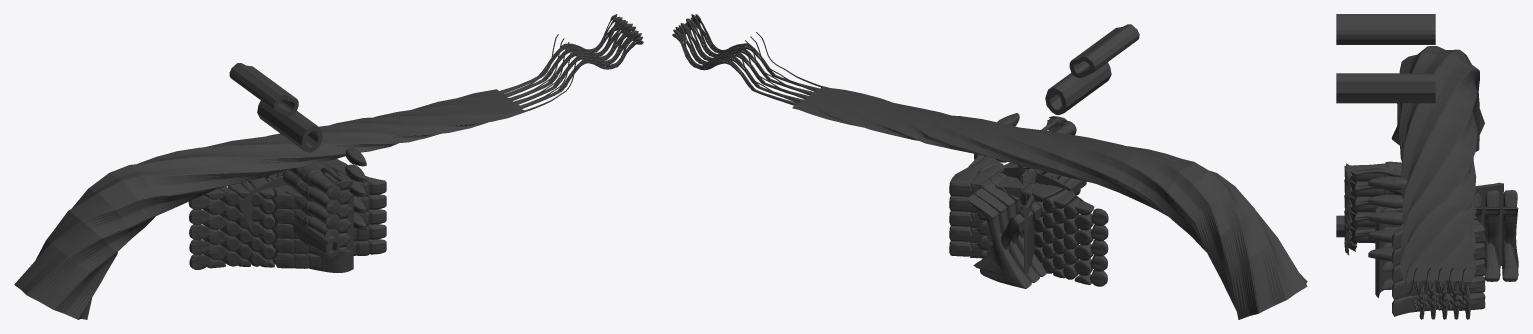
Rendered from sharedassets62.glb.
3 renders of one model, left to right at view 1: azimuth 30°, elevation 25°; view 2: azimuth 150°, elevation 25°; view 3: azimuth 270°, elevation 25°, orthographic. The views are drawn at different scales.
Visible parts, largest first — view 1: 0029_Cochlear nerve__300812, 0012_Border cells__300795, 0033_Blood vessels__300816, 0019_Hensen_s cells__300802, 0014_Outer phalangeal _Deiters__ cells _ row, 0004_Outer hair cells _row 1___300787, 0007_Inner hair cells__300790, 0011_Reticular membrane _lamina___300794, 0021_Nuel_s space__300804; view 2: 0029_Cochlear nerve__300812, 0012_Border cells__300795, 0033_Blood vessels__300816, 0013_Inner pillars _rods___300796, 0019_Hensen_s cells__300802, 0017_Outer pillars _rods___300800, 0023_Boettcher_s cells__300806, 0011_Reticular membrane _lamina___300794; view 3: 0029_Cochlear nerve__300812, 0033_Blood vessels__300816, 0019_Hensen_s cells__300802, 0007_Inner hair cells__300790, 0017_Outer pillars _rods___300800, 0013_Inner pillars _rods___300796, 0011_Reticular membrane _lamina___300794, 0014_Outer phalangeal _Deiters__ cells _ row, 0016_Outer phalangeal _Deiters__ cells _row 3, 0005_Outer hair cells _row 2___300788, 0015_Outer phalangeal _Deiters__ cells _row 2, 0020_Inner phalangeal cells__300803 (+2 smaller).
Boxes of the visible parts, x1=… form: 0029_Cochlear nerve__300812: x1=14, y1=14, x2=643, y2=319; 0012_Border cells__300795: x1=188, y1=177, x2=309, y2=269; 0033_Blood vessels__300816: x1=229, y1=63, x2=340, y2=256; 0019_Hensen_s cells__300802: x1=312, y1=159, x2=386, y2=255; 0014_Outer phalangeal _Deiters__ cells _ row: x1=283, y1=165, x2=353, y2=255; 0004_Outer hair cells _row 1___300787: x1=307, y1=172, x2=340, y2=248; 0007_Inner hair cells__300790: x1=345, y1=148, x2=366, y2=229; 0011_Reticular membrane _lamina___300794: x1=248, y1=181, x2=353, y2=272; 0021_Nuel_s space__300804: x1=238, y1=176, x2=287, y2=243; 0029_Cochlear nerve__300812: x1=672, y1=14, x2=1307, y2=319; 0012_Border cells__300795: x1=1021, y1=172, x2=1108, y2=286; 0033_Blood vessels__300816: x1=1045, y1=24, x2=1139, y2=193; 0013_Inner pillars _rods___300796: x1=967, y1=173, x2=1047, y2=288; 0019_Hensen_s cells__300802: x1=949, y1=154, x2=1004, y2=258; 0017_Outer pillars _rods___300800: x1=973, y1=201, x2=1041, y2=274; 0023_Boettcher_s cells__300806: x1=977, y1=179, x2=1043, y2=258; 0011_Reticular membrane _lamina___300794: x1=1023, y1=194, x2=1035, y2=276; 0029_Cochlear nerve__300812: x1=1391, y1=46, x2=1484, y2=319; 0033_Blood vessels__300816: x1=1336, y1=14, x2=1435, y2=237; 0019_Hensen_s cells__300802: x1=1392, y1=215, x2=1485, y2=316; 0007_Inner hair cells__300790: x1=1368, y1=176, x2=1407, y2=261; 0017_Outer pillars _rods___300800: x1=1472, y1=190, x2=1518, y2=278; 0013_Inner pillars _rods___300796: x1=1475, y1=207, x2=1518, y2=281; 0011_Reticular membrane _lamina___300794: x1=1375, y1=182, x2=1503, y2=297; 0014_Outer phalangeal _Deiters__ cells _ row: x1=1344, y1=161, x2=1402, y2=253; 0016_Outer phalangeal _Deiters__ cells _row 3: x1=1348, y1=166, x2=1401, y2=251; 0005_Outer hair cells _row 2___300788: x1=1356, y1=173, x2=1384, y2=242; 0015_Outer phalangeal _Deiters__ cells _row 2: x1=1346, y1=167, x2=1398, y2=255; 0020_Inner phalangeal cells__300803: x1=1382, y1=207, x2=1402, y2=289.
Size of the model in its own units: 3.47 by 1.15 by 0.7972.
Materials: 1 (1 with a texture image).
